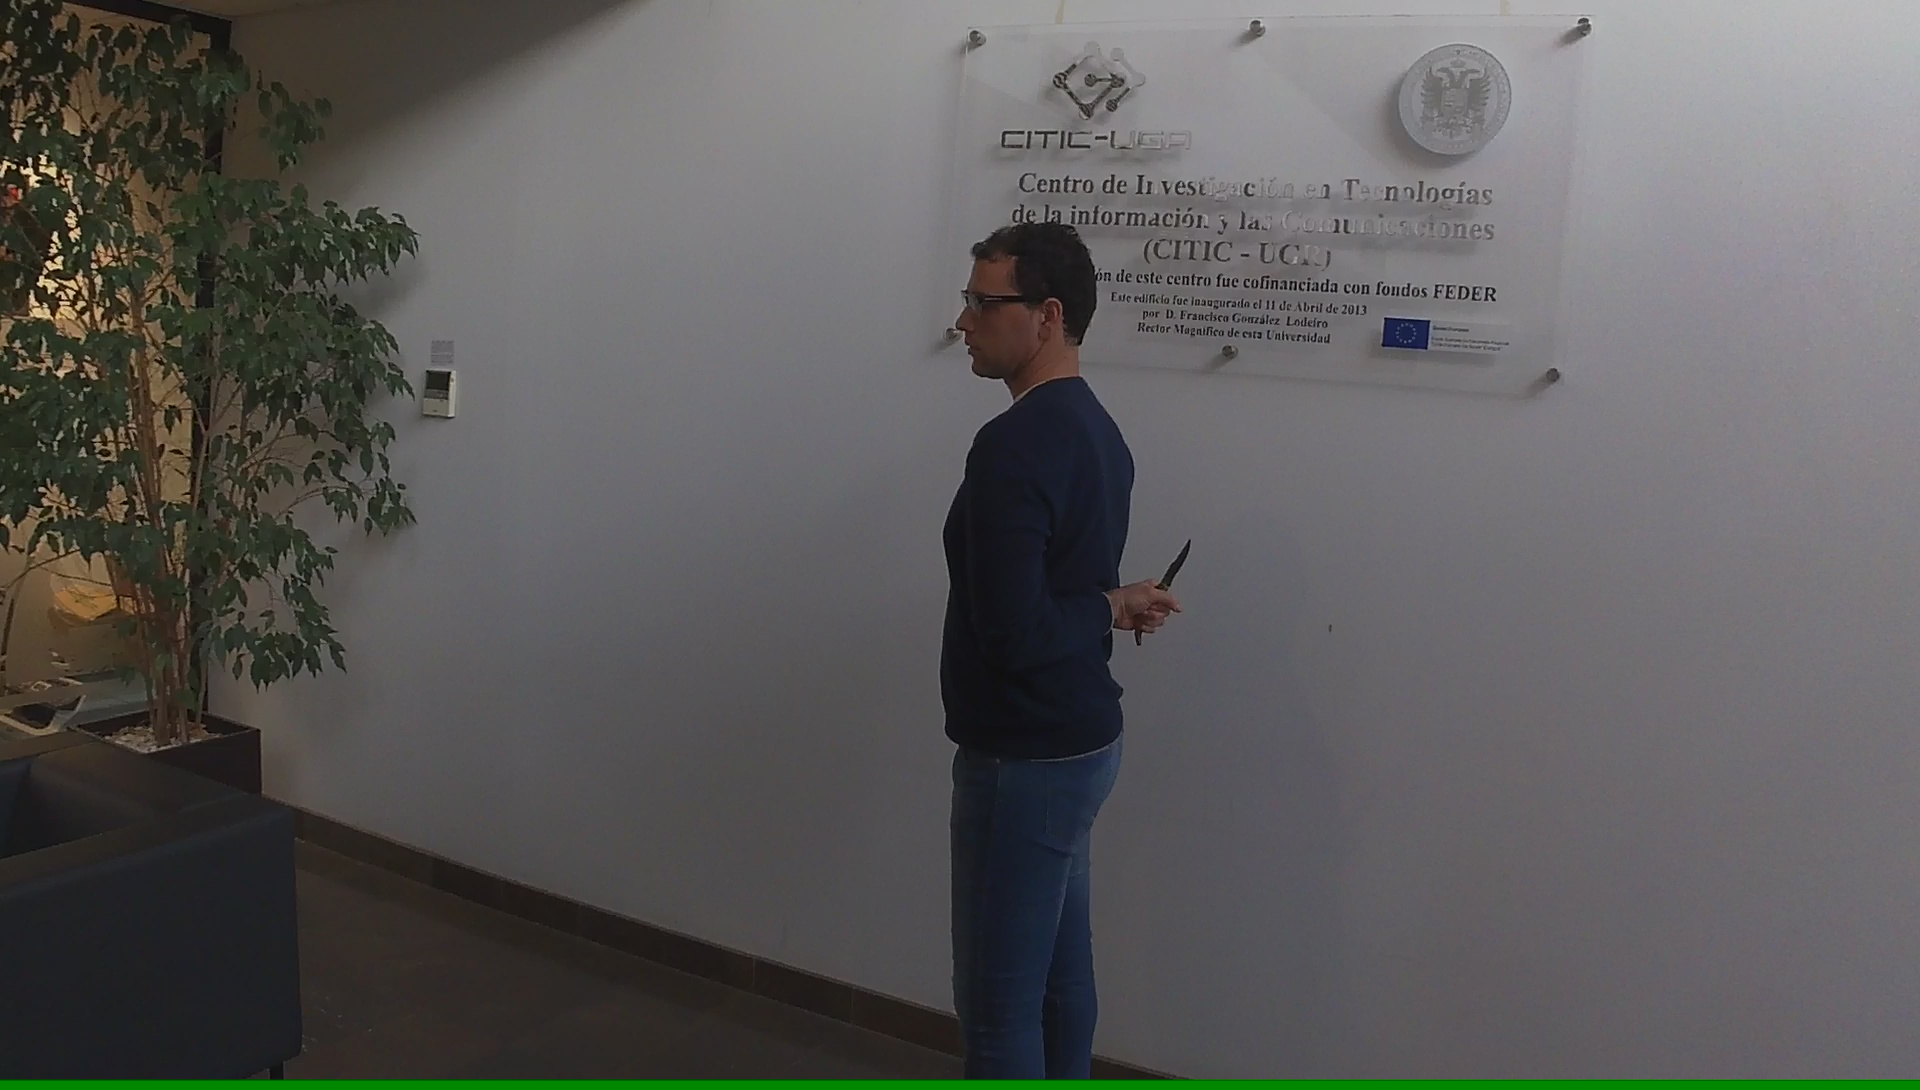knife: (1124, 530, 1199, 652)
